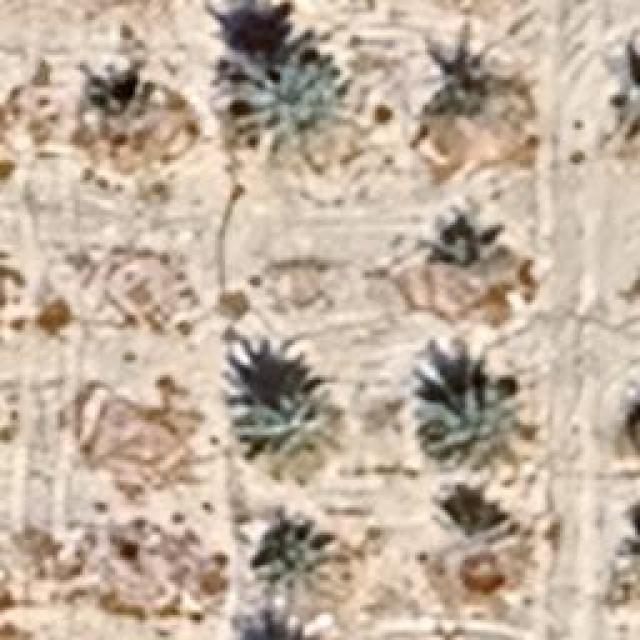PalmTree: (95, 63, 478, 515), (218, 24, 348, 144), (226, 365, 342, 465), (426, 42, 526, 146), (430, 200, 528, 295), (418, 382, 532, 462), (254, 516, 344, 594), (613, 48, 640, 152), (228, 613, 323, 640), (614, 506, 640, 603), (617, 516, 640, 606), (619, 63, 640, 153)
